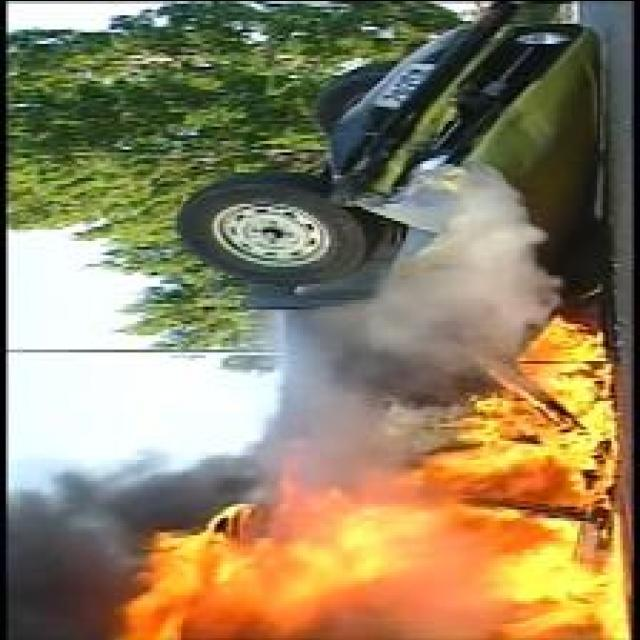Fire: (120, 312, 634, 640)
